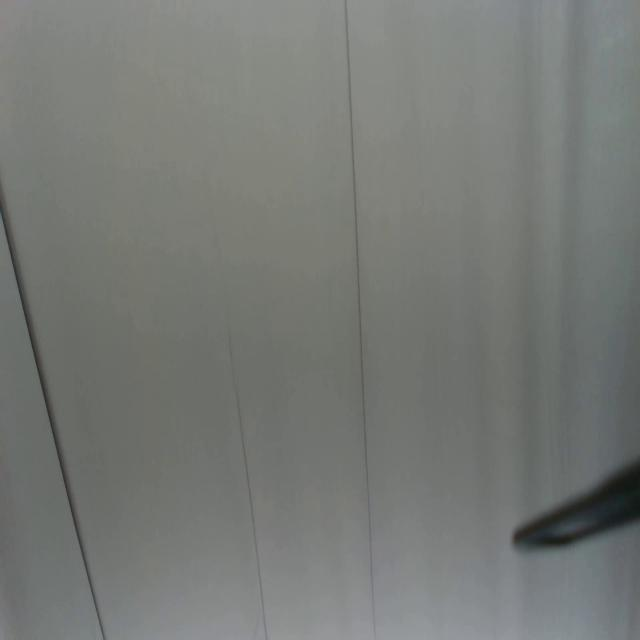crease: (0, 194, 108, 639), (339, 0, 382, 638), (225, 326, 272, 640)
